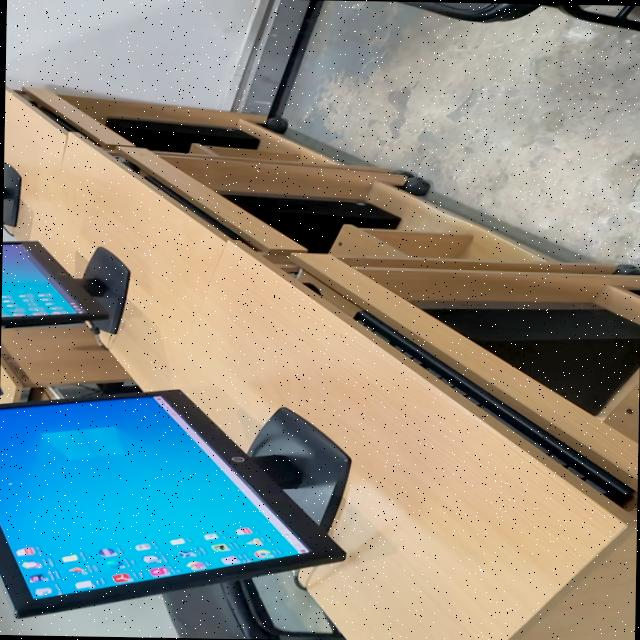Chair: (161, 579, 345, 640), (394, 1, 640, 31)
Cpu: (414, 302, 640, 414), (219, 192, 399, 252), (105, 118, 257, 152)
Keyboard: (353, 310, 632, 506), (143, 176, 254, 248), (28, 100, 83, 134)
Monitor: (0, 390, 349, 618), (0, 241, 128, 333), (2, 163, 20, 227)
Mouse: (301, 282, 320, 295)
